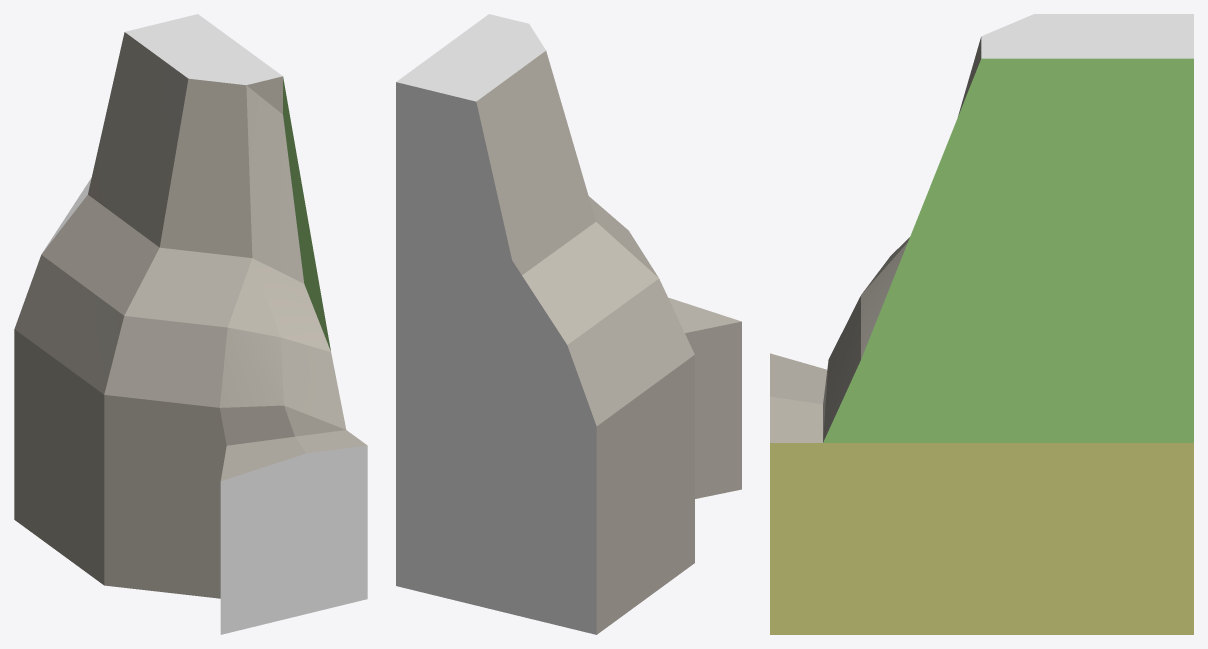
File: Cave_Edge_Straight_Base_2x2.glb
3 renders of one model, left to right at view 1: azimuth 30°, elevation 25°; view 2: azimuth 150°, elevation 25°; view 3: azimuth 270°, elevation 25°, orthographic. The views are drawn at different scales.
Parts seen in each view (by area): view 1: Cave_Edge_Straight_Base_2x2; view 2: Cave_Edge_Straight_Base_2x2; view 3: Cave_Edge_Straight_Base_2x2.
Part boxes in pixels (<box>): Cave_Edge_Straight_Base_2x2: <box>14,14,367,634</box>; Cave_Edge_Straight_Base_2x2: <box>396,14,741,634</box>; Cave_Edge_Straight_Base_2x2: <box>770,14,1193,634</box>.
Bounding box in the file's own units: 125 × 300 × 200.
